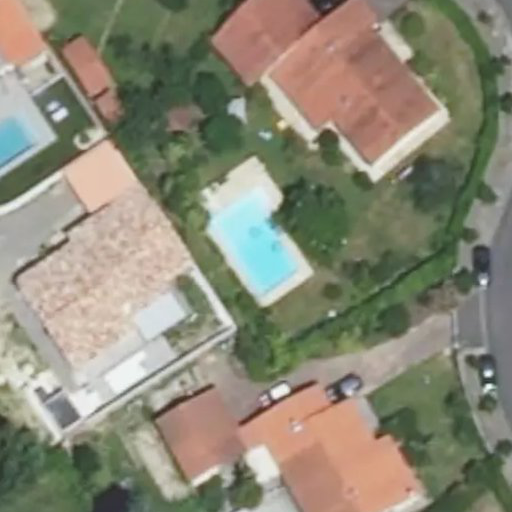pool: (212, 197, 300, 297), (1, 117, 34, 173)
